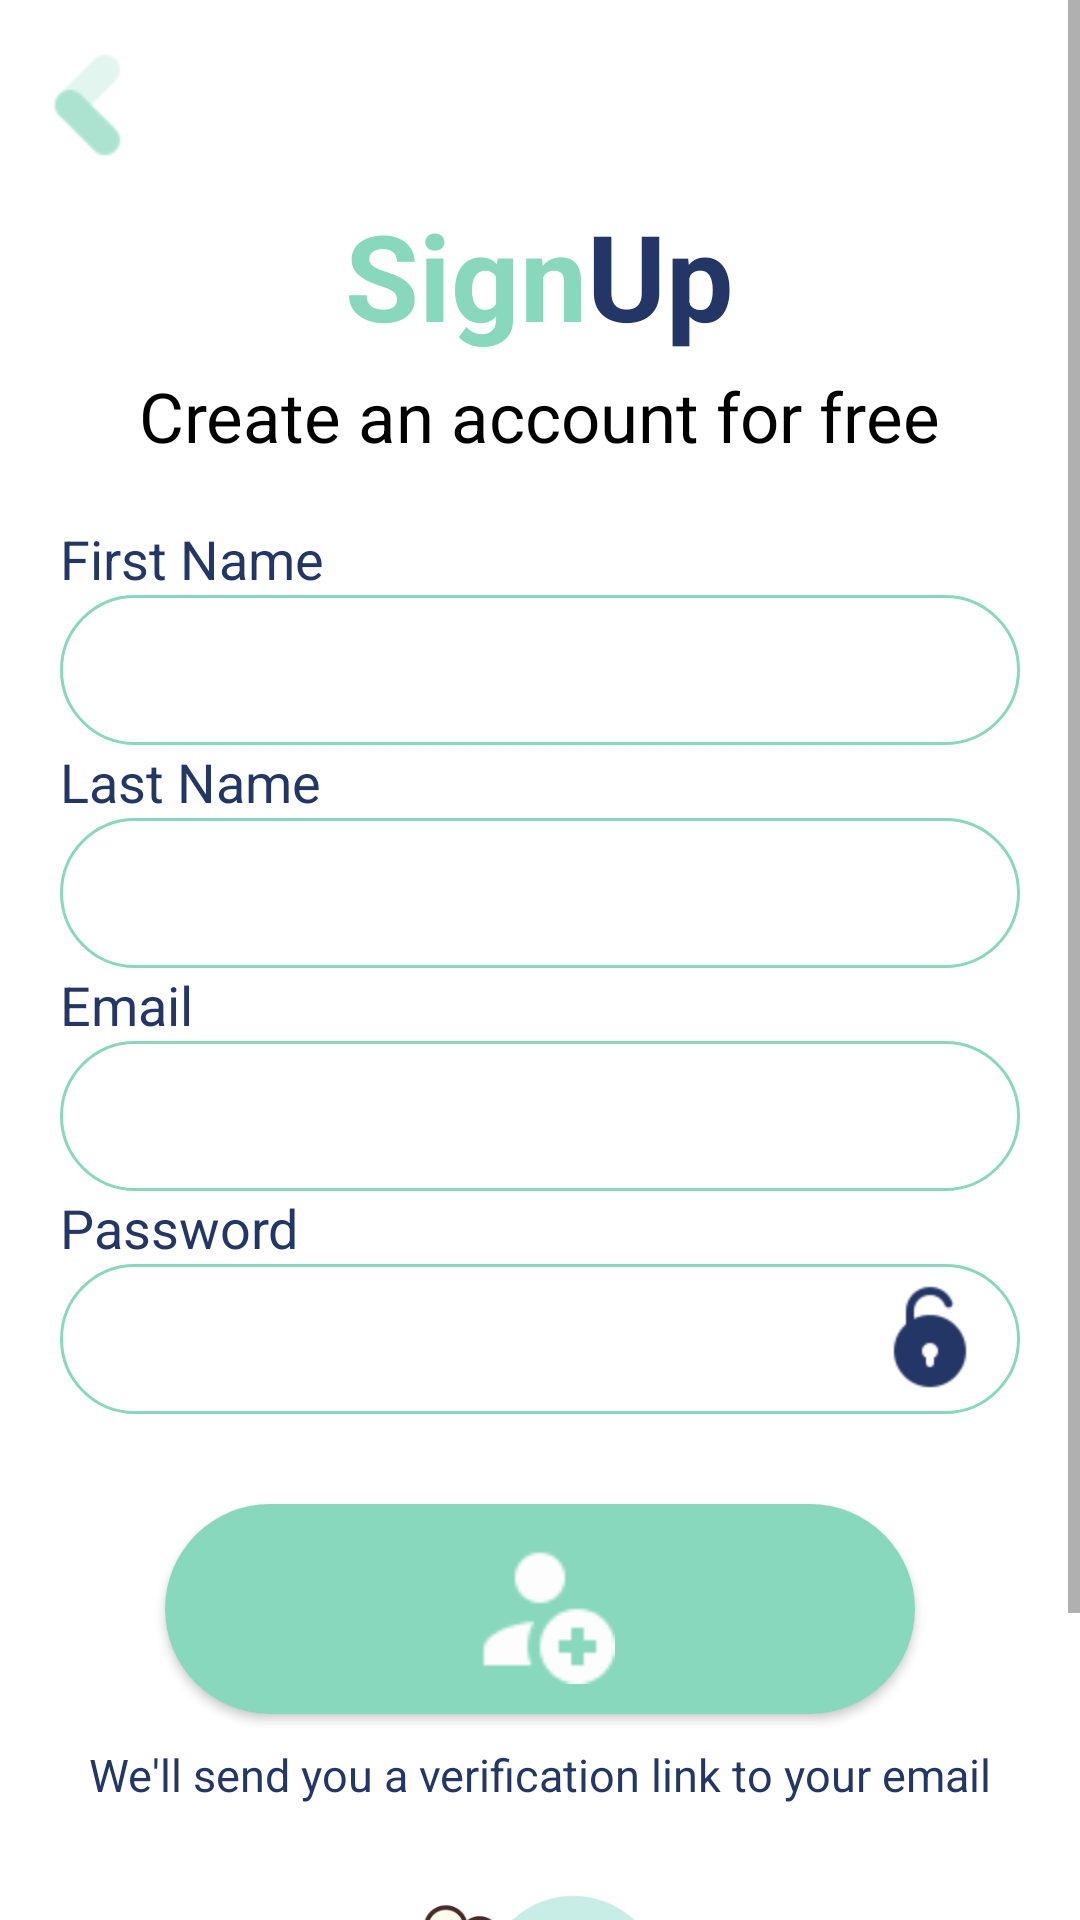

Icons on this 1080 × 1920 Android screen, each with its box as bbox=[x1, y1, x2, y2]:
back: bbox=[55, 56, 120, 155]
unlock: bbox=[893, 1286, 967, 1388]
whitesignup: bbox=[483, 1552, 615, 1684]
